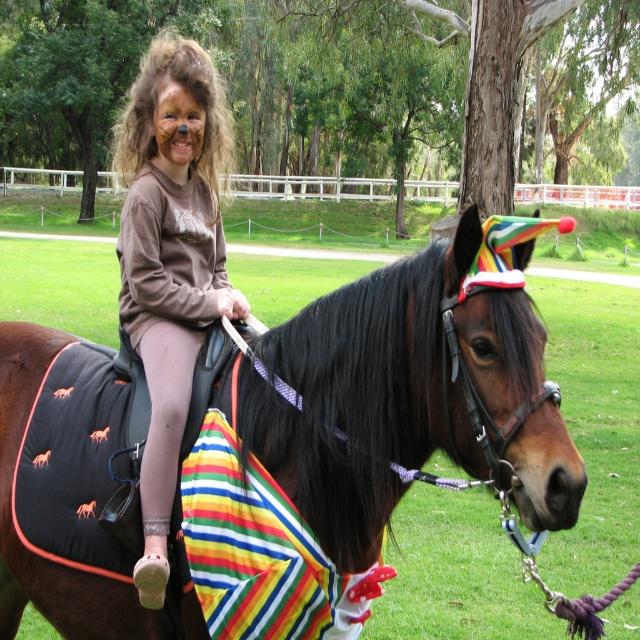Horse: (0, 207, 588, 640)
